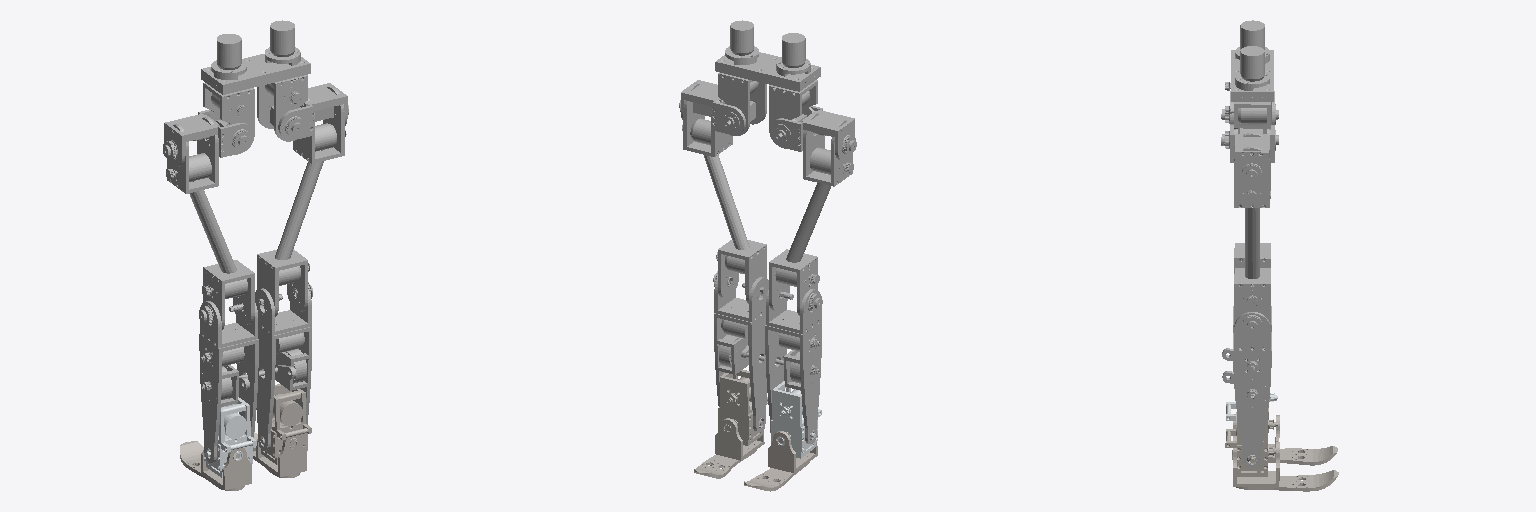
robot.urdf — huron_description:
<?xml version="1.0" encoding="utf-8"?>
<!-- This URDF was automatically created by SolidWorks to URDF Exporter! Originally created by [author] ([email redacted]) 
     Commit Version: 1.6.0-4-g7f85cfe  Build Version: 1.6.7995.38578
     For more information, please see http://wiki.ros.org/sw_urdf_exporter -->
<robot
  name="huron_description">

  <gazebo>
    <self_collide>1</self_collide>
  </gazebo>

  <link name="base_footprint" />
  <link
    name="base_link">
    <inertial>
      <origin
        xyz="4.7319E-09 5.4338E-07 0.026975"
        rpy="0 0 0" />
      <mass
        value="3.4072" />
      <inertia
        ixx="0.00319"
        ixy="7.149E-11"
        ixz="6.0313E-11"
        iyy="0.010531"
        iyz="6.926E-09"
        izz="0.012315" />
    </inertial>
    <visual>
      <origin
        xyz="0 0 0"
        rpy="0 0 0" />
      <geometry>
        <mesh
          filename="package://huron_description/meshes/base_link.STL" />
      </geometry>
      <material
        name="">
        <color
          rgba="0.75294 0.75294 0.75294 1" />
      </material>
    </visual>
    <collision>
      <origin
        xyz="0 0 0"
        rpy="0 0 0" />
      <geometry>
        <mesh
          filename="package://huron_description/meshes/base_link.STL" />
      </geometry>
    </collision>
  </link>
  <joint name="base_joint" type="fixed">
    <parent link="base_footprint"/>
    <child link="base_link"/>
    <!-- <origin xyz="0.0 0.0 0.0" rpy="0 0 0"/> -->
    <origin xyz="0.0 0.0 1.3" rpy="0 0 0"/>
  </joint>
  <link
    name="l_hip_yaw_link">
    <inertial>
      <origin
        xyz="0.00063365 -0.00053469 0.063496"
        rpy="0 0 0" />
      <mass
        value="1.6968" />
      <inertia
        ixx="0.0022702"
        ixy="-2.5061E-10"
        ixz="6.6464E-06"
        iyy="0.0026746"
        iyz="-5.1468E-09"
        izz="0.001238" />
    </inertial>
    <visual>
      <origin
        xyz="0 0 0"
        rpy="0 0 0" />
      <geometry>
        <mesh
          filename="package://huron_description/meshes/l_hip_yaw_link.STL" />
      </geometry>
      <material
        name="">
        <color
          rgba="0.75294 0.75294 0.75294 1" />
      </material>
    </visual>
    <collision>
      <origin
        xyz="0 0 0"
        rpy="0 0 0" />
      <geometry>
        <mesh
          filename="package://huron_description/meshes/l_hip_yaw_link.STL" />
      </geometry>
    </collision>
  </link>
  <joint
    name="l_hip_yaw_joint"
    type="revolute">
    <origin
      xyz="-0.0775 0 -0.14512"
      rpy="0 0 -0.0062919" />
    <parent
      link="base_link" />
    <child
      link="l_hip_yaw_link" />
    <axis
      xyz="0 0 1" />
    <limit
      lower="-3.1416"
      upper="3.1416"
      effort="0"
      velocity="0" />
    <dynamics
      damping="0.5"
      friction="100" />
  </joint>
  <link
    name="l_hip_roll_link">
    <inertial>
      <origin
        xyz="0.07196 0.0061153 -0.0005211"
        rpy="0 0 0" />
      <mass
        value="1.1884" />
      <inertia
        ixx="0.00098222"
        ixy="-9.9265E-08"
        ixz="4.9766E-09"
        iyy="0.00097045"
        iyz="-9.7282E-08"
        izz="0.00092365" />
    </inertial>
    <visual>
      <origin
        xyz="0 0 0"
        rpy="0 0 0" />
      <geometry>
        <mesh
          filename="package://huron_description/meshes/l_hip_roll_link.STL" />
      </geometry>
      <material
        name="">
        <color
          rgba="0.75294 0.75294 0.75294 1" />
      </material>
    </visual>
    <collision>
      <origin
        xyz="0 0 0"
        rpy="0 0 0" />
      <geometry>
        <mesh
          filename="package://huron_description/meshes/l_hip_roll_link.STL" />
      </geometry>
    </collision>
  </link>
  <joint
    name="l_hip_roll_joint"
    type="revolute">
    <origin
      xyz="0 0 0"
      rpy="1.5708 0 3.1416" />
    <parent
      link="l_hip_yaw_link" />
    <child
      link="l_hip_roll_link" />
    <axis
      xyz="0 0 1" />
    <limit
      lower="-3.1416"
      upper="3.1416"
      effort="0"
      velocity="0" />
    <dynamics
      damping="0.5"
      friction="100" />
  </joint>
  <link
    name="l_hip_pitch_link">
    <inertial>
      <origin
        xyz="0.26603 4.6212E-05 0.053152"
        rpy="0 0 0" />
      <mass
        value="4.2544" />
      <inertia
        ixx="0.0034527"
        ixy="-3.1046E-08"
        ixz="0.0019797"
        iyy="0.010032"
        iyz="-1.4492E-10"
        izz="0.01009" />
    </inertial>
    <visual>
      <origin
        xyz="0 0 0"
        rpy="0 0 0" />
      <geometry>
        <mesh
          filename="package://huron_description/meshes/l_hip_pitch_link.STL" />
      </geometry>
      <material
        name="">
        <color
          rgba="0.75294 0.75294 0.75294 1" />
      </material>
    </visual>
    <collision>
      <origin
        xyz="0 0 0"
        rpy="0 0 0" />
      <geometry>
        <mesh
          filename="package://huron_description/meshes/l_hip_pitch_link.STL" />
      </geometry>
    </collision>
  </link>
  <joint
    name="l_hip_pitch_joint"
    type="revolute">
    <origin
      xyz="0 0 0"
      rpy="-1.5707963267949 0 -1.5707963267949" />
    <parent
      link="l_hip_roll_link" />
    <child
      link="l_hip_pitch_link" />
    <axis
      xyz="0 0 1" />
    <limit
      lower="-3.1416"
      upper="3.1416"
      effort="0"
      velocity="0" />
    <dynamics
      damping="0.5"
      friction="100" />
  </joint>
  <link
    name="l_knee_pitch_link">
    <inertial>
      <origin
        xyz="0.13395 0.00068098 0.00486"
        rpy="0 0 0" />
      <mass
        value="3.4875" />
      <inertia
        ixx="0.0064808"
        ixy="1.3685E-05"
        ixz="-2.8221E-05"
        iyy="0.019763"
        iyz="1.0351E-05"
        izz="0.017354" />
    </inertial>
    <visual>
      <origin
        xyz="0 0 0"
        rpy="0 0 0" />
      <geometry>
        <mesh
          filename="package://huron_description/meshes/l_knee_pitch_link.STL" />
      </geometry>
      <material
        name="">
        <color
          rgba="0.75294 0.75294 0.75294 1" />
      </material>
    </visual>
    <collision>
      <origin
        xyz="0 0 0"
        rpy="0 0 0" />
      <geometry>
        <mesh
          filename="package://huron_description/meshes/l_knee_pitch_link.STL" />
      </geometry>
    </collision>
  </link>
  <joint
    name="l_knee_pitch_joint"
    type="revolute">
    <origin
      xyz="0.511278478308803 4.99999997527478E-05 1.66647320021251E-05"
      rpy="0 0 0" />
    <parent
      link="l_hip_pitch_link" />
    <child
      link="l_knee_pitch_link" />
    <axis
      xyz="0 0 1" />
    <limit
      lower="-3.1416"
      upper="3.1416"
      effort="0"
      velocity="0" />
    <dynamics
      damping="0.5"
      friction="100" />
  </joint>
  <link
    name="l_ankle_pitch_link">
    <inertial>
      <origin
        xyz="-0.029808 0.001045 3.1135E-08"
        rpy="0 0 0" />
      <mass
        value="2.4242" />
      <inertia
        ixx="0.0025143"
        ixy="-0.00025651"
        ixz="1.1648E-12"
        iyy="0.0045125"
        iyz="6.7198E-10"
        izz="0.0049235" />
    </inertial>
    <visual>
      <origin
        xyz="0 0 0"
        rpy="0 0 0" />
      <geometry>
        <mesh
          filename="package://huron_description/meshes/l_ankle_pitch_link.STL" />
      </geometry>
      <material
        name="">
        <color
          rgba="0.89804 0.91765 0.92941 1" />
      </material>
    </visual>
    <collision>
      <origin
        xyz="0 0 0"
        rpy="0 0 0" />
      <geometry>
        <mesh
          filename="package://huron_description/meshes/l_ankle_pitch_link.STL" />
      </geometry>
    </collision>
  </link>
  <joint
    name="l_ankle_pitch_joint"
    type="revolute">
    <origin
      xyz="0.370000000000016 3.16358752296964E-05 0.00249999999999911"
      rpy="0 0 0.0249371730038869" />
    <parent
      link="l_knee_pitch_link" />
    <child
      link="l_ankle_pitch_link" />
    <axis
      xyz="0 0 1" />
    <limit
      lower="-3.1416"
      upper="3.1416"
      effort="0"
      velocity="0" />
    <dynamics
      damping="0.5"
      friction="100" />
  </joint>
  <link
    name="l_ankle_roll_link">
    <inertial>
      <origin
        xyz="0.073422 -5.3261E-05 0.063946"
        rpy="0 0 0" />
      <mass
        value="1.8533" />
      <inertia
        ixx="0.008682"
        ixy="-1.0255E-05"
        ixz="0.00024351"
        iyy="0.0084057"
        iyz="0.00012332"
        izz="0.0013019" />
    </inertial>
    <visual>
      <origin
        xyz="0 0 0"
        rpy="0 0 0" />
      <geometry>
        <mesh
          filename="package://huron_description/meshes/l_ankle_roll_link.STL" />
      </geometry>
      <material
        name="">
        <color
          rgba="0.77647 0.75686 0.73725 1" />
      </material>
    </visual>
    <collision>
      <origin
        xyz="0 0 0"
        rpy="0 0 0" />
      <geometry>
        <mesh
          filename="package://huron_description/meshes/l_ankle_roll_link.STL" />
      </geometry>
    </collision>
  </link>
  <joint
    name="l_ankle_roll_joint"
    type="revolute">
    <origin
      xyz="0 0 0"
      rpy="1.57079632679489 0 0" />
    <parent
      link="l_ankle_pitch_link" />
    <child
      link="l_ankle_roll_link" />
    <axis
      xyz="0 0 1" />
    <limit
      lower="-3.1416"
      upper="3.1416"
      effort="0"
      velocity="0" />
    <dynamics
      damping="0.5"
      friction="100" />
  </joint>
  <link
    name="r_hip_yaw_link">
    <inertial>
      <origin
        xyz="0.0006244 0.00052023 0.063505"
        rpy="0 0 0" />
      <mass
        value="1.6968" />
      <inertia
        ixx="0.0022729"
        ixy="-5.6517E-10"
        ixz="6.6464E-06"
        iyy="0.0026746"
        iyz="5.6889E-09"
        izz="0.0012354" />
    </inertial>
    <visual>
      <origin
        xyz="0 0 0"
        rpy="0 0 0" />
      <geometry>
        <mesh
          filename="package://huron_description/meshes/r_hip_yaw_link.STL" />
      </geometry>
      <material
        name="">
        <color
          rgba="0.75294 0.75294 0.75294 1" />
      </material>
    </visual>
    <collision>
      <origin
        xyz="0 0 0"
        rpy="0 0 0" />
      <geometry>
        <mesh
          filename="package://huron_description/meshes/r_hip_yaw_link.STL" />
      </geometry>
    </collision>
  </link>
  <joint
    name="r_hip_yaw_joint"
    type="revolute">
    <origin
      xyz="0.0774999999999944 0 -0.1451242"
      rpy="0 0 3.13046853298182" />
    <parent
      link="base_link" />
    <child
      link="r_hip_yaw_link" />
    <axis
      xyz="0 0 1" />
    <limit
      lower="-3.1416"
      upper="3.1416"
      effort="0"
      velocity="0" />
    <dynamics
      damping="0.5"
      friction="100" />
  </joint>
  <link
    name="r_hip_roll_link">
    <inertial>
      <origin
        xyz="-0.07196 0.0061152 -0.00052563"
        rpy="0 0 0" />
      <mass
        value="1.1884" />
      <inertia
        ixx="0.00098222"
        ixy="9.8947E-08"
        ixz="9.2484E-09"
        iyy="0.00097045"
        iyz="9.7414E-08"
        izz="0.00092365" />
    </inertial>
    <visual>
      <origin
        xyz="0 0 0"
        rpy="0 0 0" />
      <geometry>
        <mesh
          filename="package://huron_description/meshes/r_hip_roll_link.STL" />
      </geometry>
      <material
        name="">
        <color
          rgba="0.75294 0.75294 0.75294 1" />
      </material>
    </visual>
    <collision>
      <origin
        xyz="0 0 0"
        rpy="0 0 0" />
      <geometry>
        <mesh
          filename="package://huron_description/meshes/r_hip_roll_link.STL" />
      </geometry>
    </collision>
  </link>
  <joint
    name="r_hip_roll_joint"
    type="revolute">
    <origin
      xyz="0 0 0"
      rpy="1.5708 0 0" />
    <parent
      link="r_hip_yaw_link" />
    <child
      link="r_hip_roll_link" />
    <axis
      xyz="0 0 1" />
    <limit
      lower="-3.1416"
      upper="3.1416"
      effort="0"
      velocity="0" />
    <dynamics
      damping="0.5"
      friction="100" />
  </joint>
  <link
    name="r_hip_pitch_link">
    <inertial>
      <origin
        xyz="0.26753 4.9957E-05 -0.053132"
        rpy="0 0 0" />
      <mass
        value="4.2544" />
      <inertia
        ixx="0.0034501"
        ixy="-2.7561E-09"
        ixz="-0.0019797"
        iyy="0.010035"
        iyz="2.5263E-10"
        izz="0.01009" />
    </inertial>
    <visual>
      <origin
        xyz="0 0 0"
        rpy="0 0 0" />
      <geometry>
        <mesh
          filename="package://huron_description/meshes/r_hip_pitch_link.STL" />
      </geometry>
      <material
        name="">
        <color
          rgba="0.75294 0.75294 0.75294 1" />
      </material>
    </visual>
    <collision>
      <origin
        xyz="0 0 0"
        rpy="0 0 0" />
      <geometry>
        <mesh
          filename="package://huron_description/meshes/r_hip_pitch_link.STL" />
      </geometry>
    </collision>
  </link>
  <joint
    name="r_hip_pitch_joint"
    type="revolute">
    <origin
      xyz="0 0 0"
      rpy="-1.5708 0 -1.5708" />
    <parent
      link="r_hip_roll_link" />
    <child
      link="r_hip_pitch_link" />
    <axis
      xyz="0 0 1" />
    <limit
      lower="-3.1416"
      upper="3.1416"
      effort="0"
      velocity="0" />
    <dynamics
      damping="0.5"
      friction="100" />
  </joint>
  <link
    name="r_knee_pitch_link">
    <inertial>
      <origin
        xyz="0.13396 0.00063335 -0.00486"
        rpy="0 0 0" />
      <mass
        value="3.4875" />
      <inertia
        ixx="0.0064812"
        ixy="1.2949E-05"
        ixz="2.8064E-05"
        iyy="0.019762"
        iyz="-1.0389E-05"
        izz="0.017354" />
    </inertial>
    <visual>
      <origin
        xyz="0 0 0"
        rpy="0 0 0" />
      <geometry>
        <mesh
          filename="package://huron_description/meshes/r_knee_pitch_link.STL" />
      </geometry>
      <material
        name="">
        <color
          rgba="0.75294 0.75294 0.75294 1" />
      </material>
    </visual>
    <collision>
      <origin
        xyz="0 0 0"
        rpy="0 0 0" />
      <geometry>
        <mesh
          filename="package://huron_description/meshes/r_knee_pitch_link.STL" />
      </geometry>
    </collision>
  </link>
  <joint
    name="r_knee_pitch_joint"
    type="revolute">
    <origin
      xyz="0.512778478308813 4.99999999867273E-05 -1.66647320091612E-05"
      rpy="0 0 0" />
    <parent
      link="r_hip_pitch_link" />
    <child
      link="r_knee_pitch_link" />
    <axis
      xyz="0 0 1" />
    <limit
      lower="-3.1416"
      upper="3.1416"
      effort="0"
      velocity="0" />
    <dynamics
      damping="0.5"
      friction="100" />
  </joint>
  <link
    name="r_ankle_pitch_link">
    <inertial>
      <origin
        xyz="-0.029867 0.001045 0.000556"
        rpy="0 0 0" />
      <mass
        value="2.4242" />
      <inertia
        ixx="0.0025143"
        ixy="-0.00025651"
        ixz="1.5321E-12"
        iyy="0.0045125"
        iyz="9.9589E-10"
        izz="0.0049235" />
    </inertial>
    <visual>
      <origin
        xyz="0 0 0"
        rpy="0 0 0" />
      <geometry>
        <mesh
          filename="package://huron_description/meshes/r_ankle_pitch_link.STL" />
      </geometry>
      <material
        name="">
        <color
          rgba="0.77647 0.75686 0.73725 1" />
      </material>
    </visual>
    <collision>
      <origin
        xyz="0 0 0"
        rpy="0 0 0" />
      <geometry>
        <mesh
          filename="package://huron_description/meshes/r_ankle_pitch_link.STL" />
      </geometry>
    </collision>
  </link>
  <joint
    name="r_ankle_pitch_joint"
    type="revolute">
    <origin
      xyz="0.370000000000006 -3.16358749707368E-05 -0.00249999999999918"
      rpy="0 0 0.0095311367408488" />
    <parent
      link="r_knee_pitch_link" />
    <child
      link="r_ankle_pitch_link" />
    <axis
      xyz="0 0 1" />
    <limit
      lower="-3.1416"
      upper="3.1416"
      effort="0"
      velocity="0" />
    <dynamics
      damping="0.5"
      friction="100" />
  </joint>
  <link
    name="r_ankle_roll_link">
    <inertial>
      <origin
        xyz="0.073422 7.2094E-05 0.063933"
        rpy="0 0 0" />
      <mass
        value="1.8531" />
      <inertia
        ixx="0.0086813"
        ixy="1.0356E-05"
        ixz="0.00024346"
        iyy="0.0084051"
        iyz="-0.00012301"
        izz="0.0013018" />
    </inertial>
    <visual>
      <origin
        xyz="0 0 0"
        rpy="0 0 0" />
      <geometry>
        <mesh
          filename="package://huron_description/meshes/r_ankle_roll_link.STL" />
      </geometry>
      <material
        name="">
        <color
          rgba="0.77647 0.75686 0.73725 1" />
      </material>
    </visual>
    <collision>
      <origin
        xyz="0 0 0"
        rpy="0 0 0" />
      <geometry>
        <mesh
          filename="package://huron_description/meshes/r_ankle_roll_link.STL" />
      </geometry>
    </collision>
  </link>
  <joint
    name="r_ankle_roll_joint"
    type="revolute">
    <origin
      xyz="0 0 0"
      rpy="1.57079632679489 0 0" />
    <parent
      link="r_ankle_pitch_link" />
    <child
      link="r_ankle_roll_link" />
    <axis
      xyz="0 0 1" />
    <limit
      lower="-3.1416"
      upper="3.1416"
      effort="0"
      velocity="0" />
    <dynamics
      damping="0.5"
      friction="100" />
  </joint>
</robot>

--- Render facts (derived) ---
3 views of the same robot in one strip: view 1: azimuth 30°, elevation 25°; view 2: azimuth 150°, elevation 25°; view 3: azimuth 270°, elevation 25° (orthographic).
Model huron_description with 14 links and 13 joints (12 revolute, 1 fixed), rooted at base_footprint, posed every joint at zero.
Links seen in each view (by area): view 1: l_hip_pitch_link, r_hip_pitch_link, l_knee_pitch_link, r_knee_pitch_link, base_link, l_hip_roll_link, r_ankle_pitch_link, l_ankle_pitch_link, r_hip_yaw_link, l_ankle_roll_link, r_hip_roll_link, l_hip_yaw_link (+1 smaller); view 2: l_hip_pitch_link, r_hip_pitch_link, l_knee_pitch_link, r_knee_pitch_link, base_link, l_hip_roll_link, r_ankle_pitch_link, l_ankle_pitch_link, l_ankle_roll_link, r_hip_yaw_link, r_ankle_roll_link, r_hip_roll_link (+1 smaller); view 3: r_knee_pitch_link, r_hip_pitch_link, base_link, r_hip_roll_link, r_ankle_roll_link, l_ankle_roll_link, r_ankle_pitch_link, r_hip_yaw_link, l_hip_pitch_link.
Link boxes in pixels (bbox=[...]): l_hip_pitch_link: bbox=[166, 117, 254, 329]; r_hip_pitch_link: bbox=[257, 87, 346, 316]; l_knee_pitch_link: bbox=[199, 301, 258, 462]; r_knee_pitch_link: bbox=[255, 288, 311, 450]; base_link: bbox=[201, 20, 310, 94]; l_hip_roll_link: bbox=[163, 110, 253, 166]; r_ankle_pitch_link: bbox=[259, 384, 311, 464]; l_ankle_pitch_link: bbox=[204, 397, 256, 477]; r_hip_yaw_link: bbox=[257, 75, 307, 141]; l_ankle_roll_link: bbox=[180, 441, 251, 490]; r_hip_roll_link: bbox=[278, 83, 348, 140]; l_hip_yaw_link: bbox=[203, 83, 254, 154]; l_hip_pitch_link: bbox=[769, 113, 853, 315]; r_hip_pitch_link: bbox=[682, 83, 766, 303]; l_knee_pitch_link: bbox=[765, 289, 821, 443]; r_knee_pitch_link: bbox=[714, 277, 768, 431]; base_link: bbox=[715, 20, 820, 91]; l_hip_roll_link: bbox=[769, 106, 856, 160]; r_ankle_pitch_link: bbox=[718, 370, 767, 445]; l_ankle_pitch_link: bbox=[771, 381, 821, 458]; l_ankle_roll_link: bbox=[744, 431, 817, 491]; r_hip_yaw_link: bbox=[718, 72, 766, 135]; r_ankle_roll_link: bbox=[694, 418, 764, 478]; r_hip_roll_link: bbox=[679, 80, 745, 134]; r_knee_pitch_link: bbox=[1222, 312, 1271, 467]; r_hip_pitch_link: bbox=[1234, 133, 1270, 334]; base_link: bbox=[1231, 20, 1273, 101]; r_hip_roll_link: bbox=[1221, 124, 1278, 187]; r_ankle_roll_link: bbox=[1233, 441, 1338, 491]; l_ankle_roll_link: bbox=[1232, 414, 1337, 465]; r_ankle_pitch_link: bbox=[1225, 408, 1277, 476]; r_hip_yaw_link: bbox=[1225, 102, 1271, 134]; l_hip_pitch_link: bbox=[1234, 123, 1270, 273].
Bounding box of the posed robot: 0.5227 × 0.3018 × 1.23 m (x, y, z).
13 mesh visuals loaded from 13 distinct referenced files (13 binary STL).
